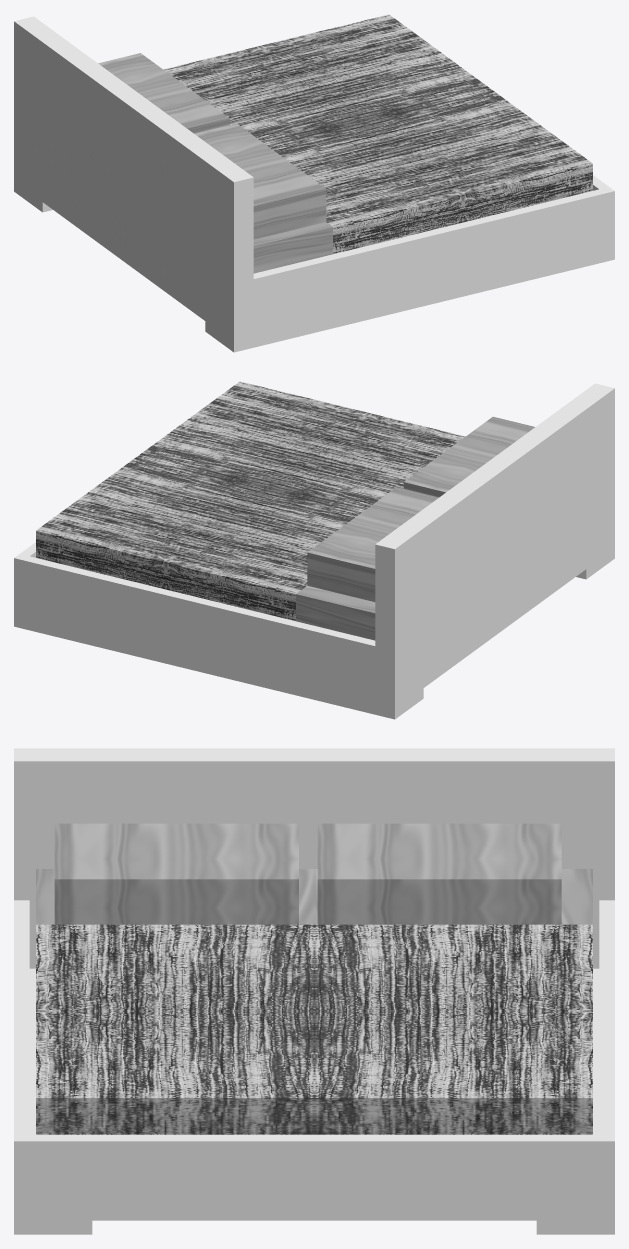
File: black_bed.obj
3 views of the same model, one above another, from view 1: azimuth 30°, elevation 25°; view 2: azimuth 150°, elevation 25°; view 3: azimuth 270°, elevation 25° (orthographic). The views are drawn at different scales.
Visible parts, largest first — view 1: cube.006, cube.008, cube.001, cube.004, cube.002, cube, cube.005, cube.003; view 2: cube.006, cube.008, cube.000, cube.005, cube.002, cube.009, cube.004, cube.003; view 3: cube.006, cube.008, cube.007, cube.004, cube.005, cube.002, cube.000, cube.001, cube.003, cube, cube.009.
Boxes of the visible parts, x1=… form: cube.006: x1=163, y1=14, x2=592, y2=254; cube.008: x1=14, y1=16, x2=253, y2=333; cube.001: x1=253, y1=187, x2=614, y2=328; cube.004: x1=194, y1=123, x2=326, y2=239; cube.002: x1=14, y1=173, x2=614, y2=341; cube: x1=205, y1=249, x2=614, y2=352; cube.005: x1=98, y1=53, x2=229, y2=133; cube.003: x1=253, y1=222, x2=332, y2=273; cube.006: x1=36, y1=381, x2=465, y2=621; cube.008: x1=375, y1=383, x2=614, y2=700; cube.000: x1=14, y1=554, x2=375, y2=695; cube.005: x1=307, y1=487, x2=438, y2=601; cube.002: x1=14, y1=540, x2=614, y2=708; cube.009: x1=14, y1=616, x2=423, y2=719; cube.004: x1=403, y1=416, x2=534, y2=497; cube.003: x1=296, y1=586, x2=375, y2=640; cube.006: x1=36, y1=924, x2=592, y2=1134; cube.008: x1=14, y1=748, x2=614, y2=968; cube.007: x1=29, y1=1134, x2=599, y2=1209; cube.004: x1=54, y1=823, x2=298, y2=924; cube.005: x1=317, y1=823, x2=561, y2=924; cube.002: x1=14, y1=968, x2=614, y2=1220; cube.000: x1=599, y1=900, x2=614, y2=1209; cube.001: x1=14, y1=900, x2=29, y2=1209; cube.003: x1=36, y1=869, x2=592, y2=924; cube: x1=14, y1=1220, x2=92, y2=1234; cube.009: x1=536, y1=1220, x2=614, y2=1234.
Size of the model in its own units: 3 by 1.28 by 3.
